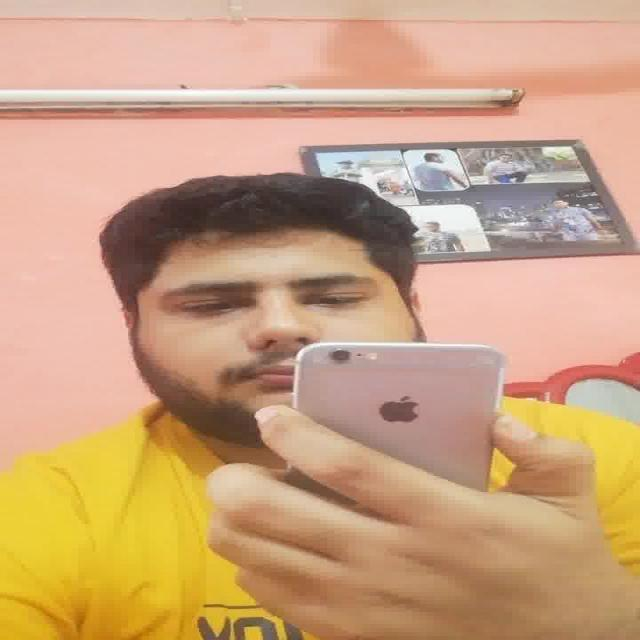Phone: (290, 340, 506, 486)
